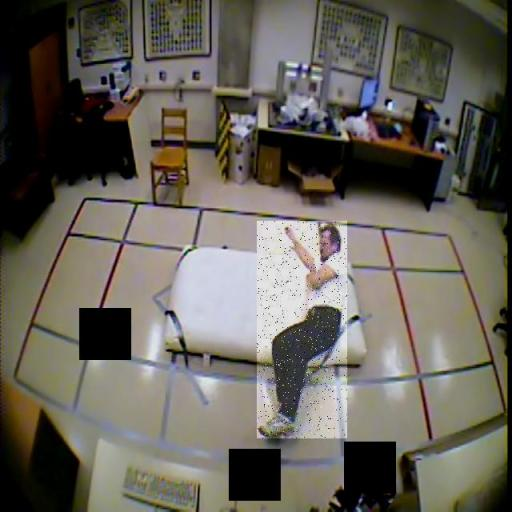Fall: (257, 221, 347, 438)
